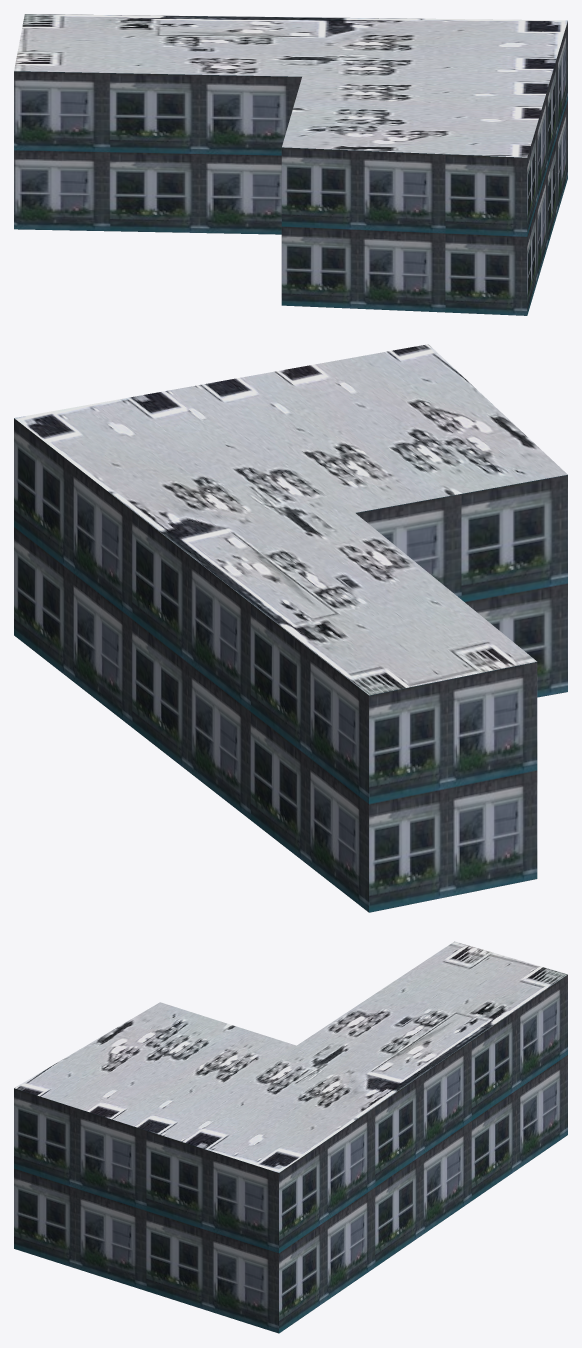
File: ResTex__112.fbx
The picture shows the model from 3 angles, top to bottom: view 1: azimuth 30°, elevation 25°; view 2: azimuth 150°, elevation 25°; view 3: azimuth 270°, elevation 25°; orthographic projection. The views are drawn at different scales.
Visible parts, largest first — view 1: CityEngineMaterial_11_m, CityEngineMaterial_m; view 2: CityEngineMaterial_11_m, CityEngineMaterial_m; view 3: CityEngineMaterial_11_m, CityEngineMaterial_m.
Boxes of the visible parts, bbox=[...] form: CityEngineMaterial_11_m: bbox=[14, 21, 567, 315]; CityEngineMaterial_m: bbox=[14, 14, 567, 157]; CityEngineMaterial_11_m: bbox=[14, 418, 567, 912]; CityEngineMaterial_m: bbox=[14, 344, 567, 695]; CityEngineMaterial_11_m: bbox=[14, 974, 567, 1333]; CityEngineMaterial_m: bbox=[14, 941, 567, 1172].
Size of the model in its own units: 18.55 by 6 by 18.75.
2 materials, 2 textured.
